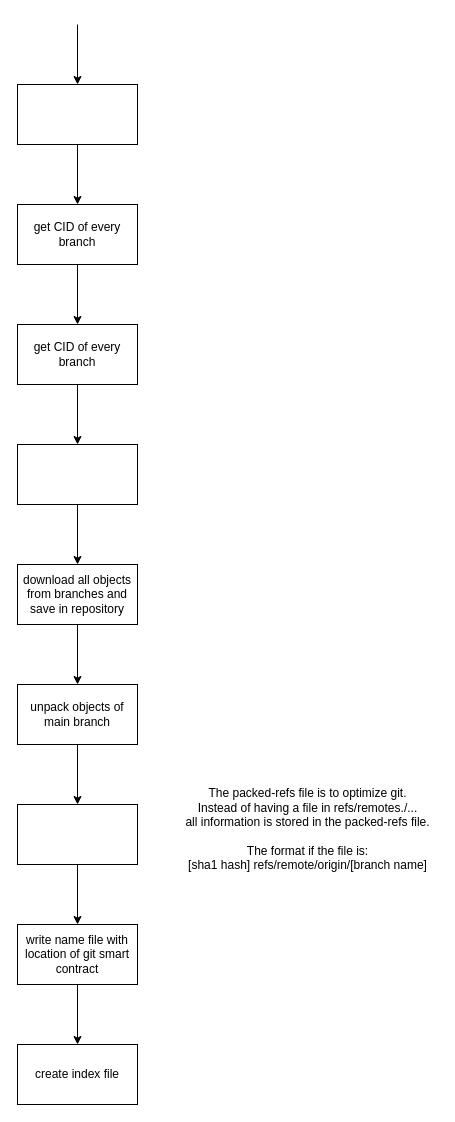
Some shapes in this 455 by 1122 pixel diagram are drawn without their labels. Here are the shapes that lost their labels. From the top down, the centre of each, then its label:
At point (77, 114): "get all branch names from remote repository".
At point (77, 474): "init repository".
At point (77, 834): "write packed-refs file".
